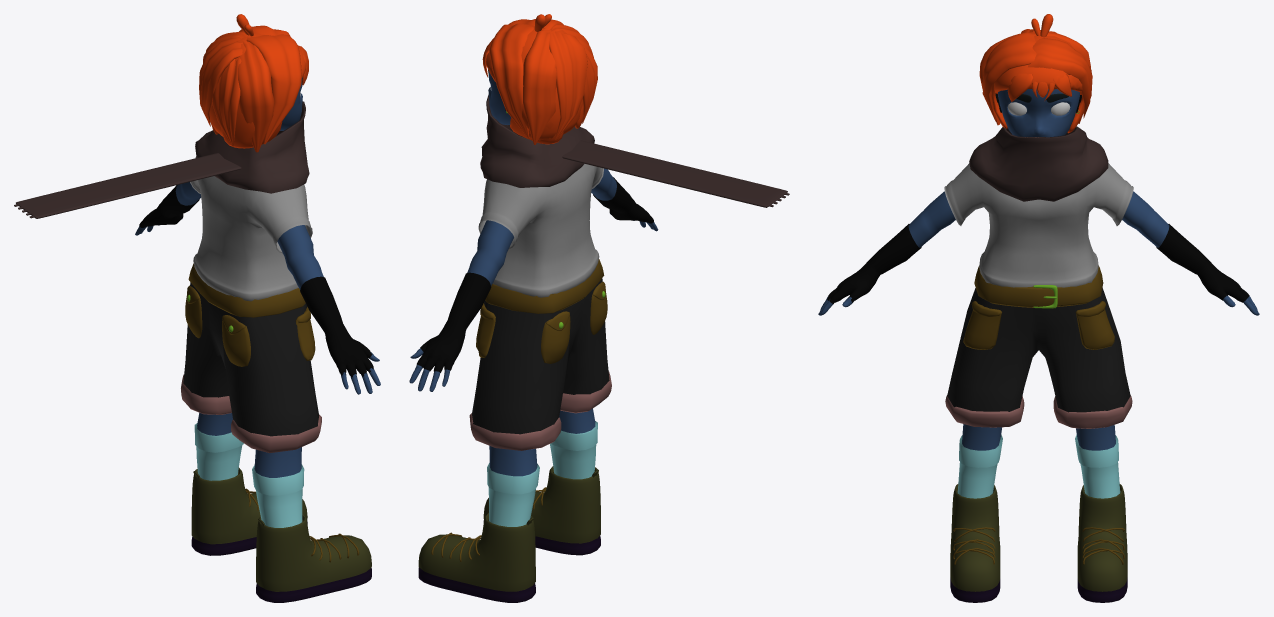
File: MainCharacterV2.fbx
The picture shows the model from 3 angles, left to right: view 1: azimuth 30°, elevation 25°; view 2: azimuth 150°, elevation 25°; view 3: azimuth 270°, elevation 25°; orthographic projection. The views are drawn at different scales.
Visible parts, largest first — view 1: LPParts1; view 2: LPParts1; view 3: LPParts1.
Boxes of the visible parts, x1=… form: LPParts1: x1=14, y1=14, x2=380, y2=602; LPParts1: x1=409, y1=14, x2=789, y2=602; LPParts1: x1=818, y1=14, x2=1259, y2=602.
Bounding box in the file's own units: 1230 × 2039 × 1497.
